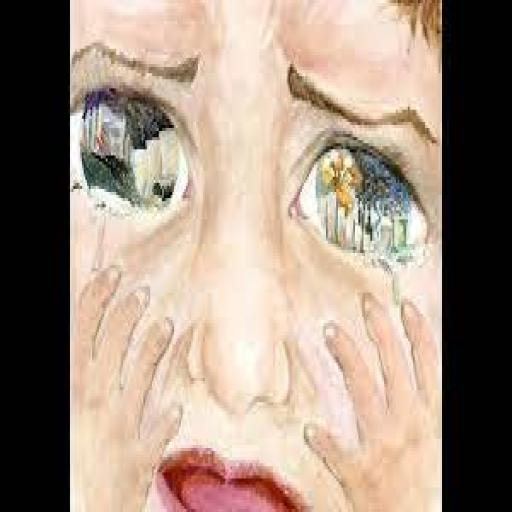person: (70, 0, 440, 512)
